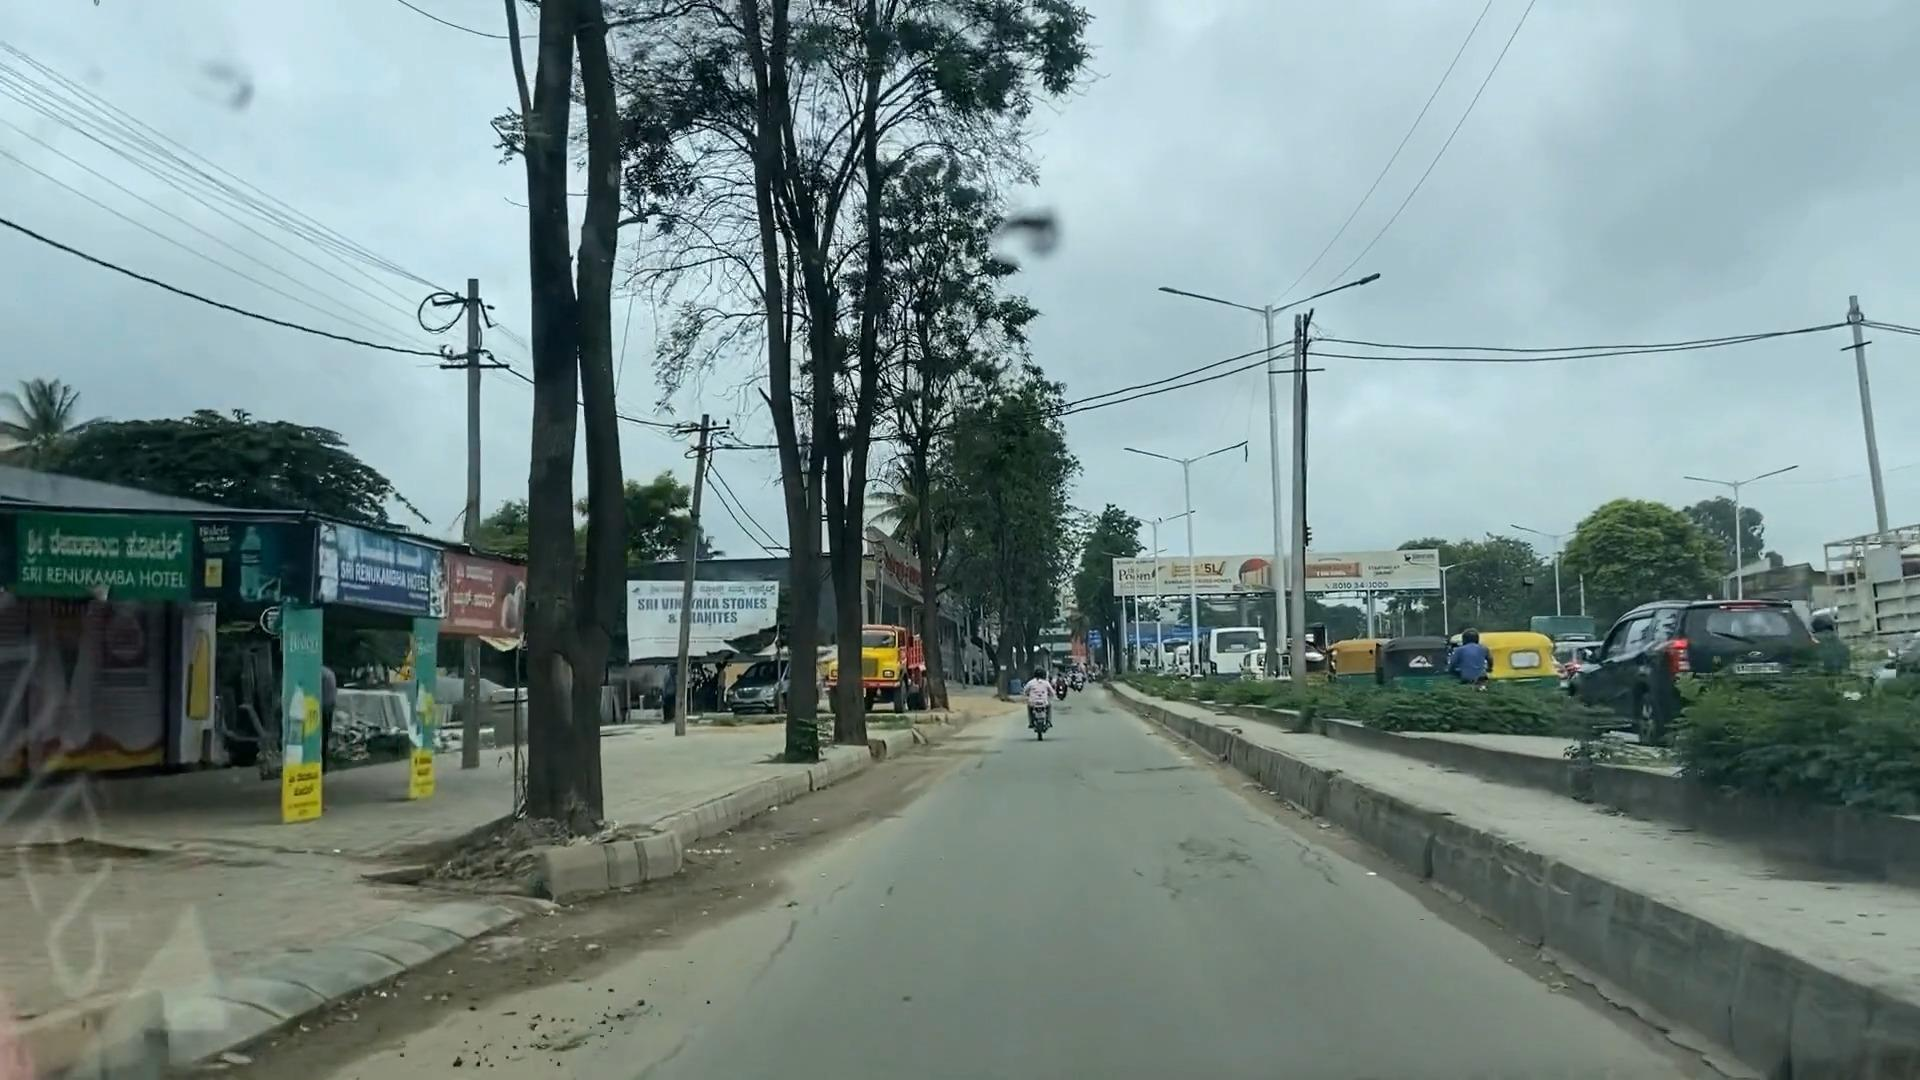RoadDamages: (484, 964, 683, 1071), (1147, 800, 1308, 932)
